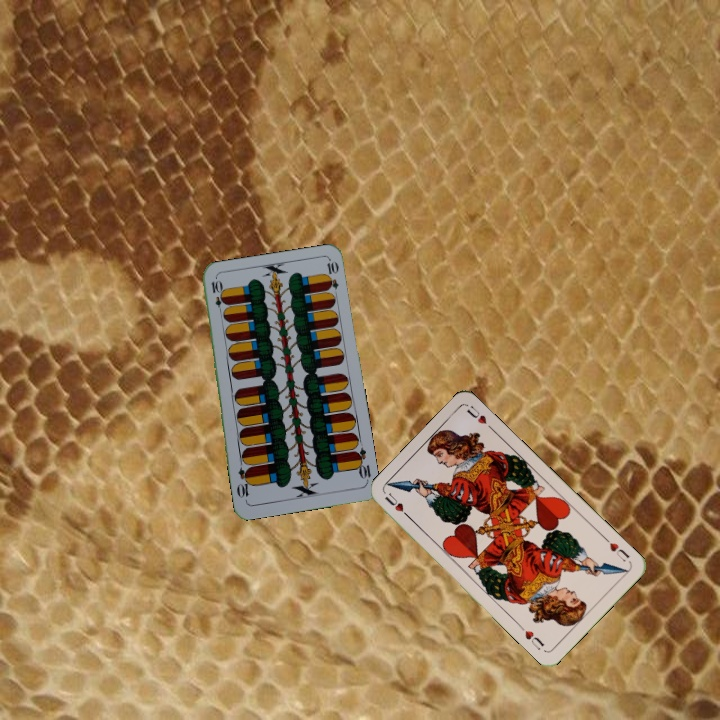E10: (350, 444, 373, 485), (207, 276, 226, 317)
HU: (600, 533, 632, 565), (381, 489, 413, 521)
